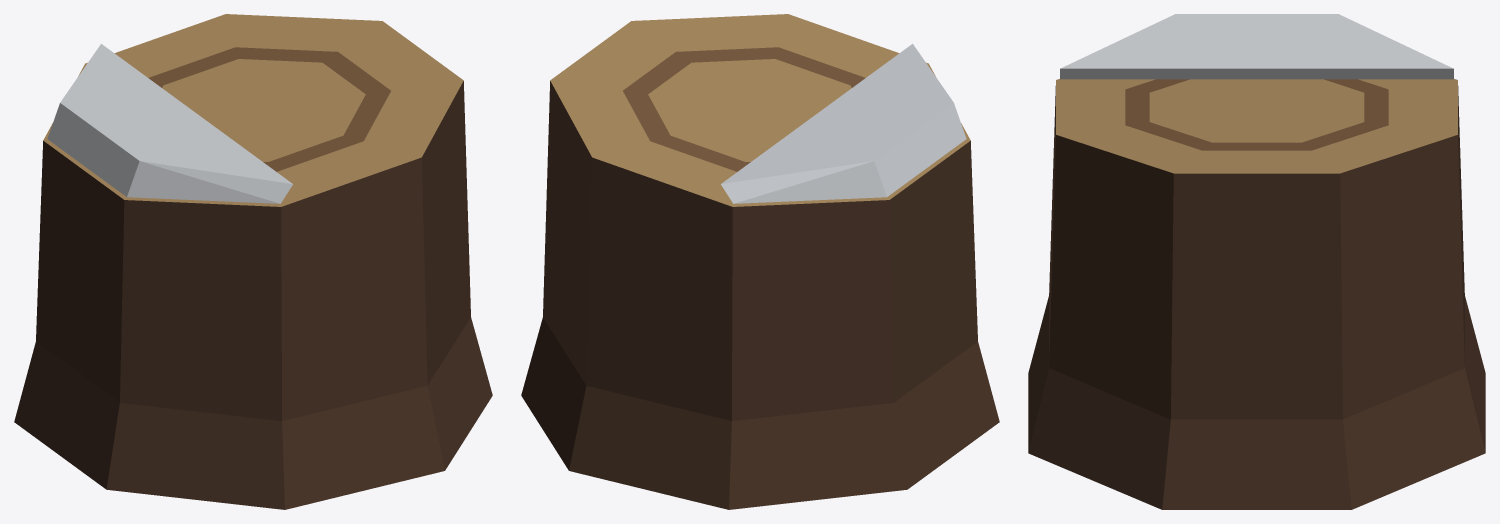
File: stump.glb
3 renders of one model, left to right at view 1: azimuth 30°, elevation 25°; view 2: azimuth 150°, elevation 25°; view 3: azimuth 270°, elevation 25°, orthographic. The views are drawn at different scales.
Visible parts, largest first — view 1: Stump; view 2: Stump; view 3: Stump.
Boxes of the visible parts, x1,y1,x2,y2 form: Stump: [14, 14, 492, 509]; Stump: [521, 14, 999, 509]; Stump: [1028, 14, 1485, 509].
Bounding box in the file's own units: 0.6098 × 0.4777 × 0.6098.
